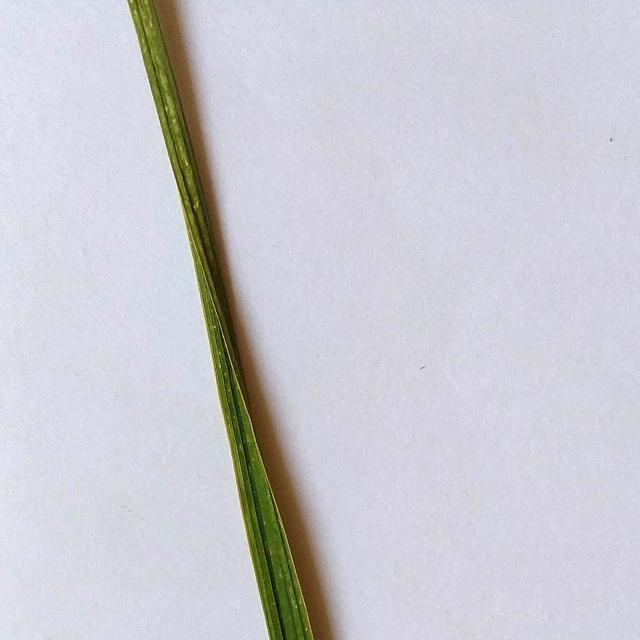Rice_Healthy: (127, 0, 313, 640)
